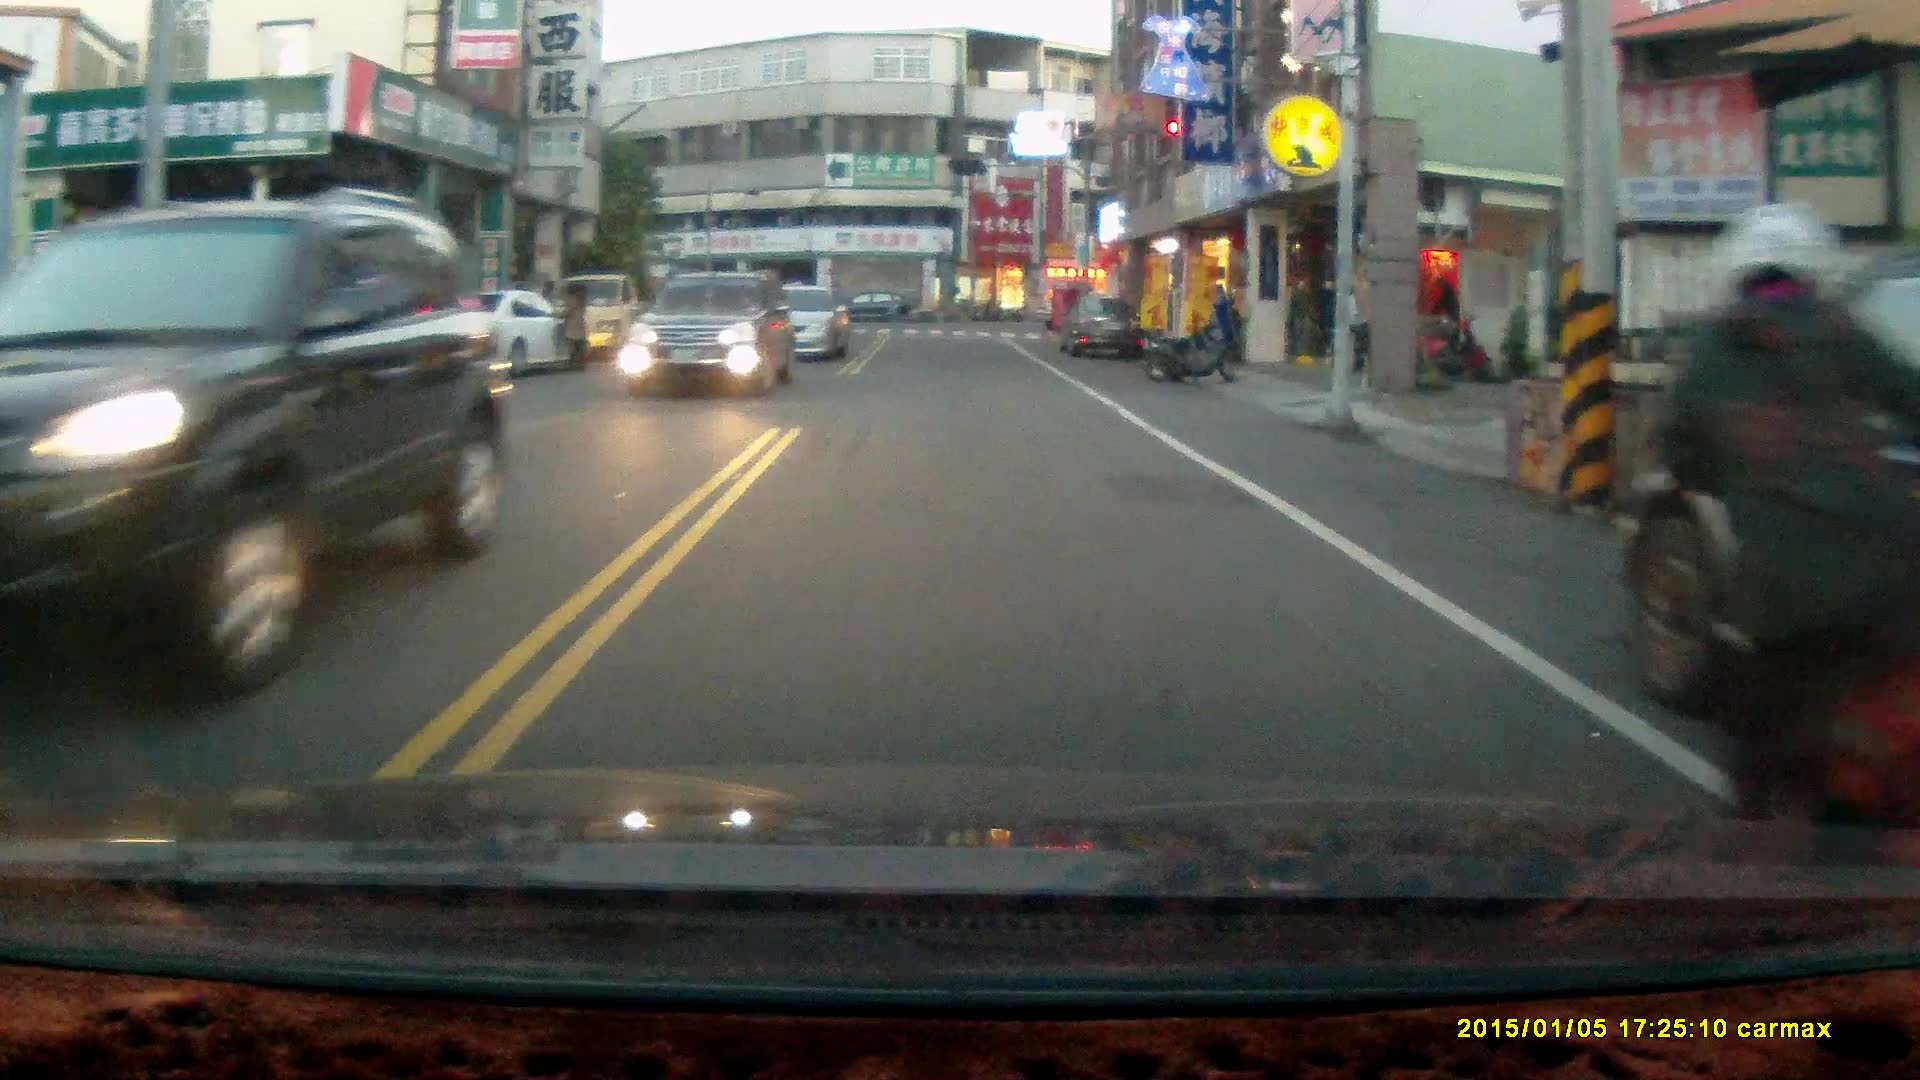pedestrian: (554, 279, 586, 374)
rider: (1650, 200, 1913, 855)
vehicle: (2, 189, 543, 656), (1630, 263, 1920, 769), (627, 267, 793, 401), (733, 282, 855, 363), (1057, 294, 1149, 366), (822, 289, 931, 329)
